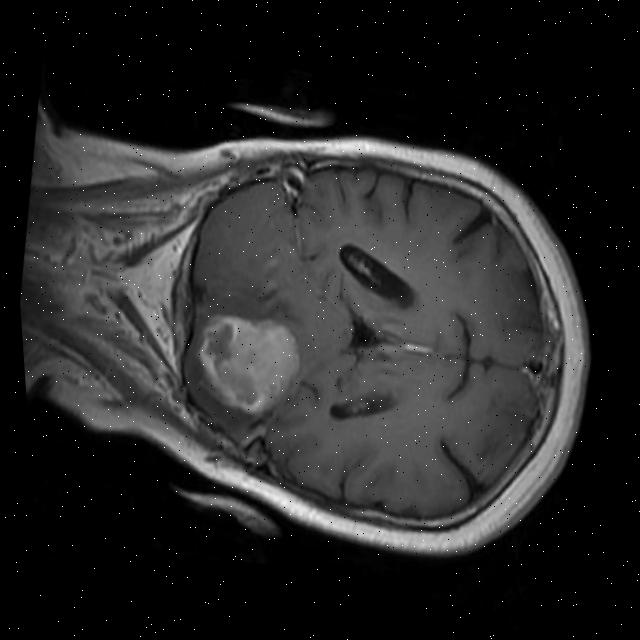Meningioma: (186, 304, 313, 424)
